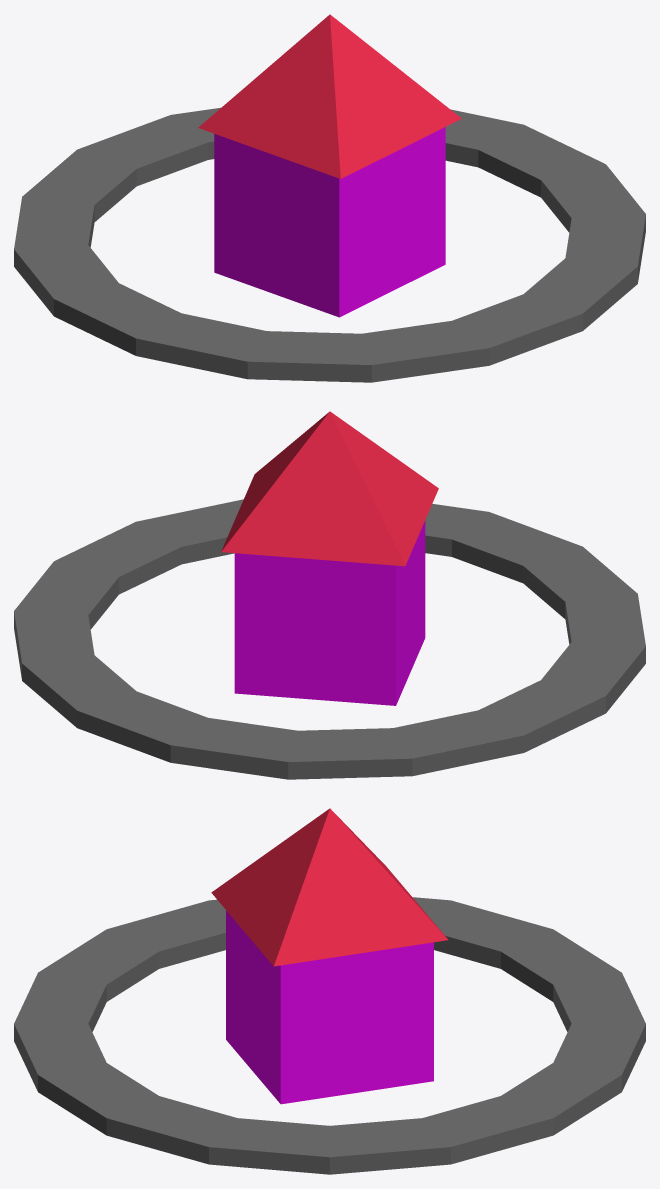
The model's file is test_city3.fbx.
3 views of the same model, one above another, from view 1: azimuth 30°, elevation 25°; view 2: azimuth 150°, elevation 25°; view 3: azimuth 270°, elevation 25° (orthographic).
Parts seen in each view (by area): view 1: street, house, roof; view 2: street, house, roof; view 3: street, house, roof.
Part boxes in pixels (x1=…): street: x1=14, y1=107, x2=645, y2=382; house: x1=214, y1=127, x2=445, y2=317; roof: x1=198, y1=14, x2=461, y2=178; street: x1=14, y1=499, x2=645, y2=779; house: x1=234, y1=520, x2=425, y2=705; roof: x1=221, y1=411, x2=438, y2=566; street: x1=14, y1=897, x2=645, y2=1174; house: x1=226, y1=910, x2=433, y2=1104; roof: x1=211, y1=808, x2=448, y2=966.
Size of the model in its own units: 86.3 by 38 by 86.3.
